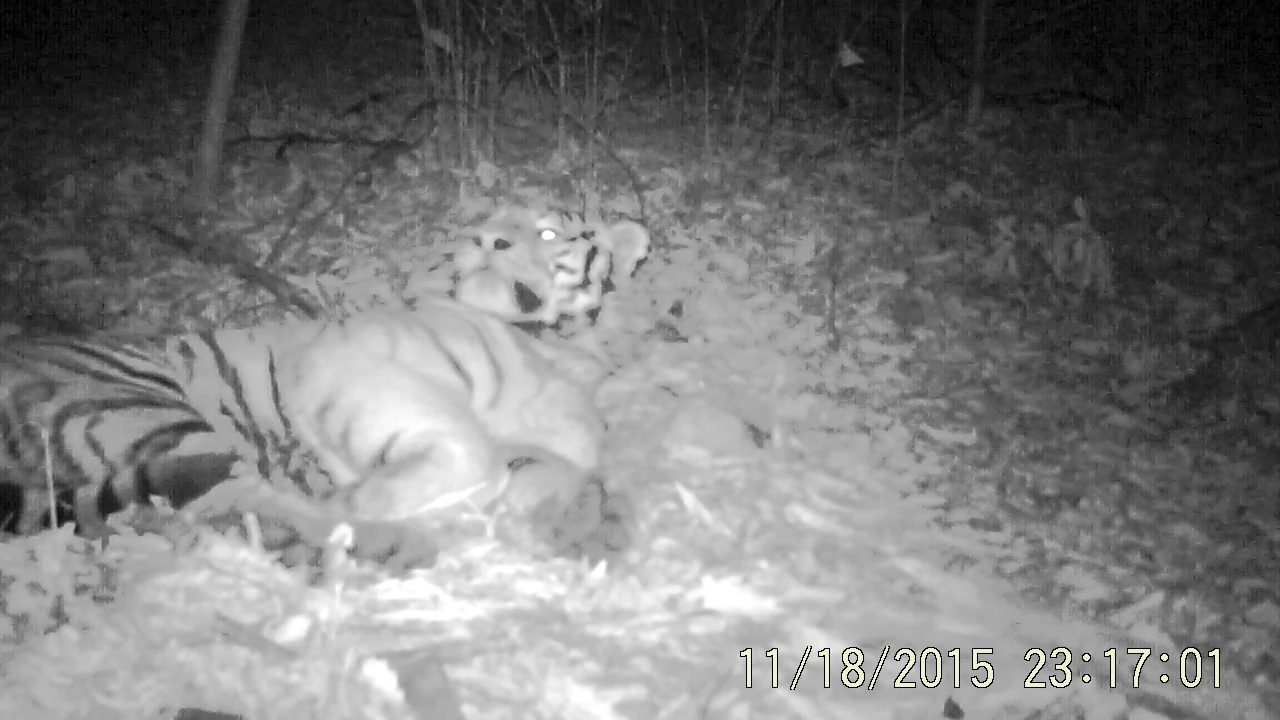Tiger: (5, 75, 833, 609)
